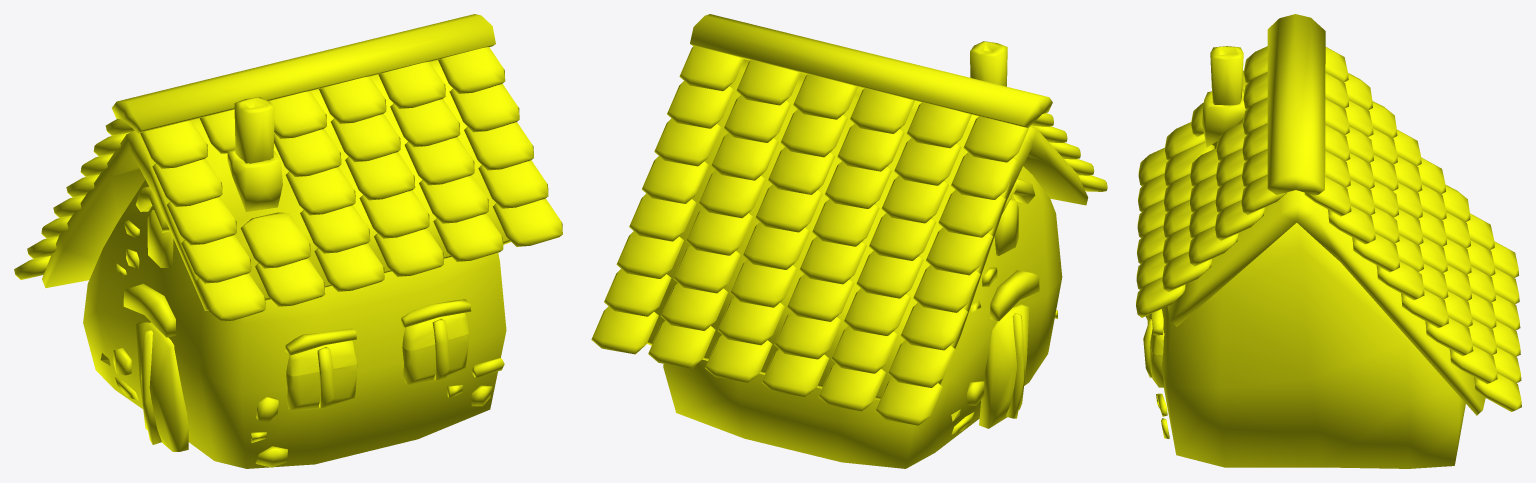
The model's file is Grange_low(real_low).fbx.
3 views of the same model, side by side, from view 1: azimuth 30°, elevation 25°; view 2: azimuth 150°, elevation 25°; view 3: azimuth 270°, elevation 25° (orthographic). The views are drawn at different scales.
Parts seen in each view (by area): view 1: CORPS.001; view 2: CORPS.001; view 3: CORPS.001.
Part boxes in pixels (left/top/right/bottom): CORPS.001: left=14, top=14, right=562, bottom=468; CORPS.001: left=591, top=14, right=1107, bottom=468; CORPS.001: left=1136, top=14, right=1521, bottom=468.
Bounding box in the file's own units: 454 × 438 × 454.
